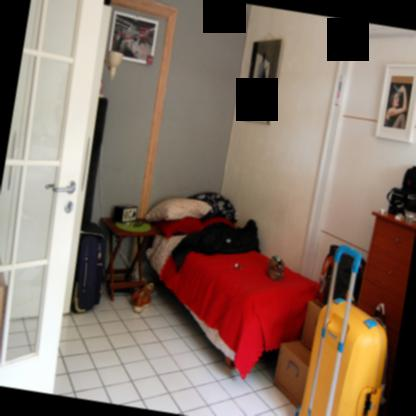suitcase: (294, 296, 388, 416), (72, 219, 105, 312)
